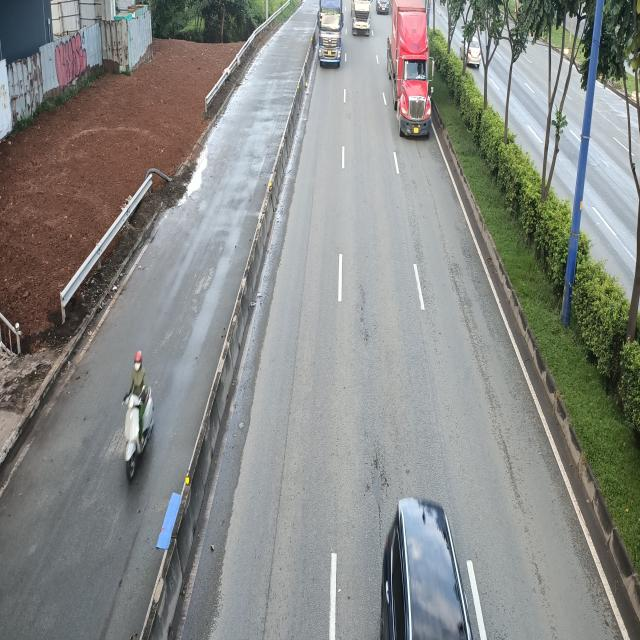container: (391, 0, 437, 140), (351, 0, 371, 38)
truck: (318, 0, 346, 68)
